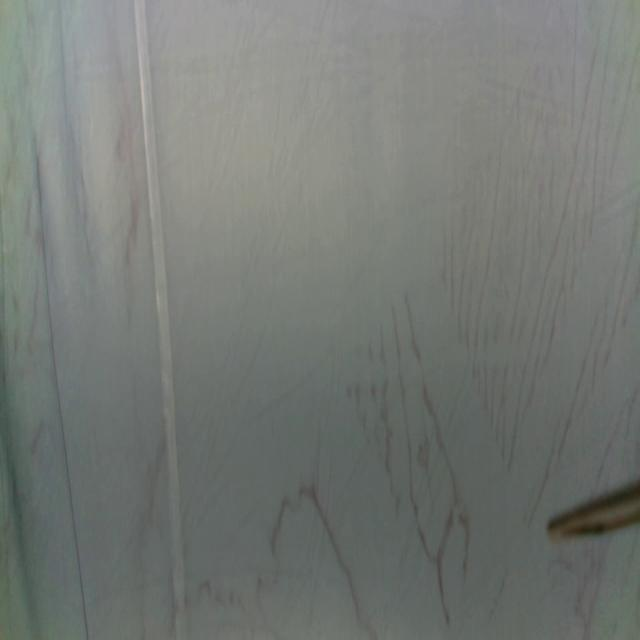crease: (135, 0, 186, 636), (35, 152, 89, 640)
